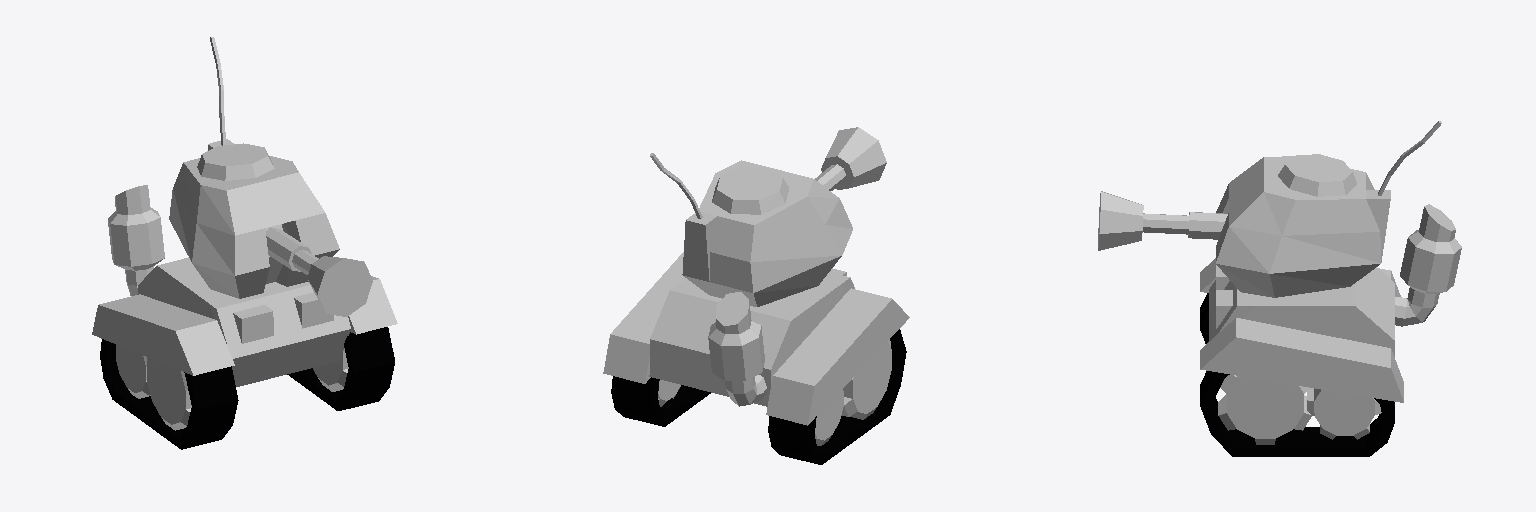
The model's file is mini_tank_preview.obj.
The picture shows the model from 3 angles: view 1: azimuth 30°, elevation 25°; view 2: azimuth 150°, elevation 25°; view 3: azimuth 270°, elevation 25°; orthographic projection.
Visible parts, largest first — view 1: Head_Cube.003, Body_Cube.009, Trail_Cube.006, R_arm_Cube.017, barrel_Cube.011, Tailpipe_Cube.012, cap_Cube.013, R_front_wheel_Cube.010, L_arm_Cube.016, R_back_wheel_Cube.010, L_front_wheel_Cube.010, Antena_Cube.002; view 2: Head_Cube.003, Body_Cube.009, R_arm_Cube.017, Trail_Cube.006, Tailpipe_Cube.012, L_arm_Cube.016, barrel_Cube.011, cap_Cube.013, R_front_wheel_Cube.010, R_back_wheel_Cube.010; view 3: Head_Cube.003, L_arm_Cube.016, Body_Cube.009, Trail_Cube.006, Tailpipe_Cube.012, L_front_wheel_Cube.010, barrel_Cube.011, L_back_wheel_Cube.010, cap_Cube.013.
Part boxes in pixels (x1,y1,x2,y2): Head_Cube.003: (169, 139, 339, 298); Body_Cube.009: (138, 257, 350, 386); Trail_Cube.006: (100, 327, 394, 449); R_arm_Cube.017: (92, 294, 234, 375); barrel_Cube.011: (266, 227, 372, 316); Tailpipe_Cube.012: (108, 185, 164, 295); cap_Cube.013: (197, 143, 274, 180); R_front_wheel_Cube.010: (147, 357, 191, 430); L_arm_Cube.016: (348, 276, 397, 334); R_back_wheel_Cube.010: (116, 345, 150, 398); L_front_wheel_Cube.010: (313, 348, 348, 391); Antena_Cube.002: (210, 37, 225, 145); Head_Cube.003: (682, 160, 852, 306); Body_Cube.009: (649, 268, 854, 406); R_arm_Cube.017: (766, 288, 909, 425); Trail_Cube.006: (611, 329, 906, 464); Tailpipe_Cube.012: (708, 292, 766, 406); L_arm_Cube.016: (603, 252, 685, 383); barrel_Cube.011: (815, 127, 886, 190); cap_Cube.013: (712, 167, 788, 214); R_front_wheel_Cube.010: (841, 339, 891, 419); R_back_wheel_Cube.010: (815, 389, 843, 445); Head_Cube.003: (1216, 156, 1390, 297); L_arm_Cube.016: (1200, 318, 1403, 402); Body_Cube.009: (1209, 265, 1394, 356); Trail_Cube.006: (1200, 293, 1394, 456); Tailpipe_Cube.012: (1395, 204, 1461, 326); L_front_wheel_Cube.010: (1218, 375, 1311, 444); barrel_Cube.011: (1098, 191, 1227, 250); L_back_wheel_Cube.010: (1307, 388, 1381, 439); cap_Cube.013: (1278, 154, 1356, 196).
Size of the model in its own units: 2.11 by 2.99 by 3.24.